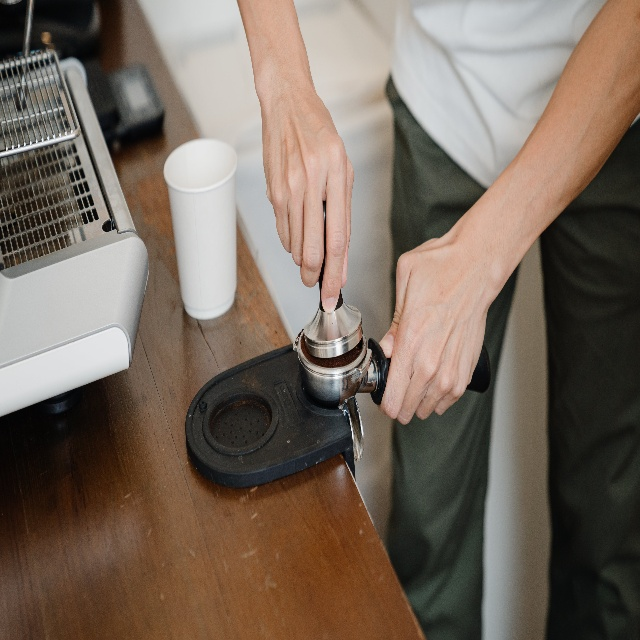Sin_guantes: (375, 222, 500, 425), (259, 95, 361, 306)
